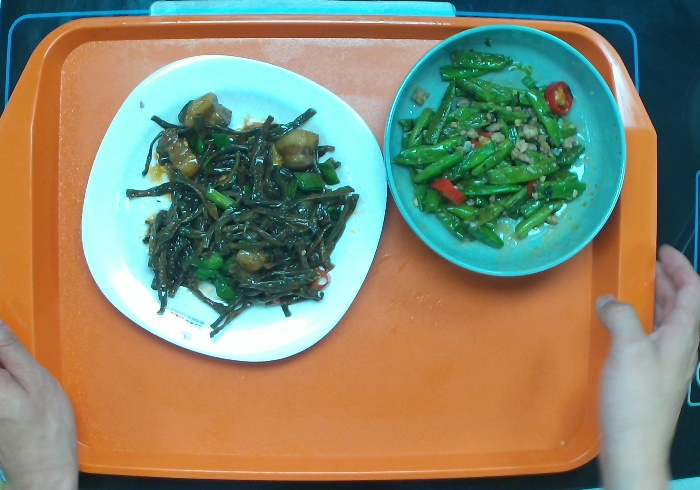ZNLD-Qing_Hua_Yuan_Wan: (370, 18, 634, 281)
ZNLD-Yuan_Jiao_Pan: (78, 52, 390, 368)
